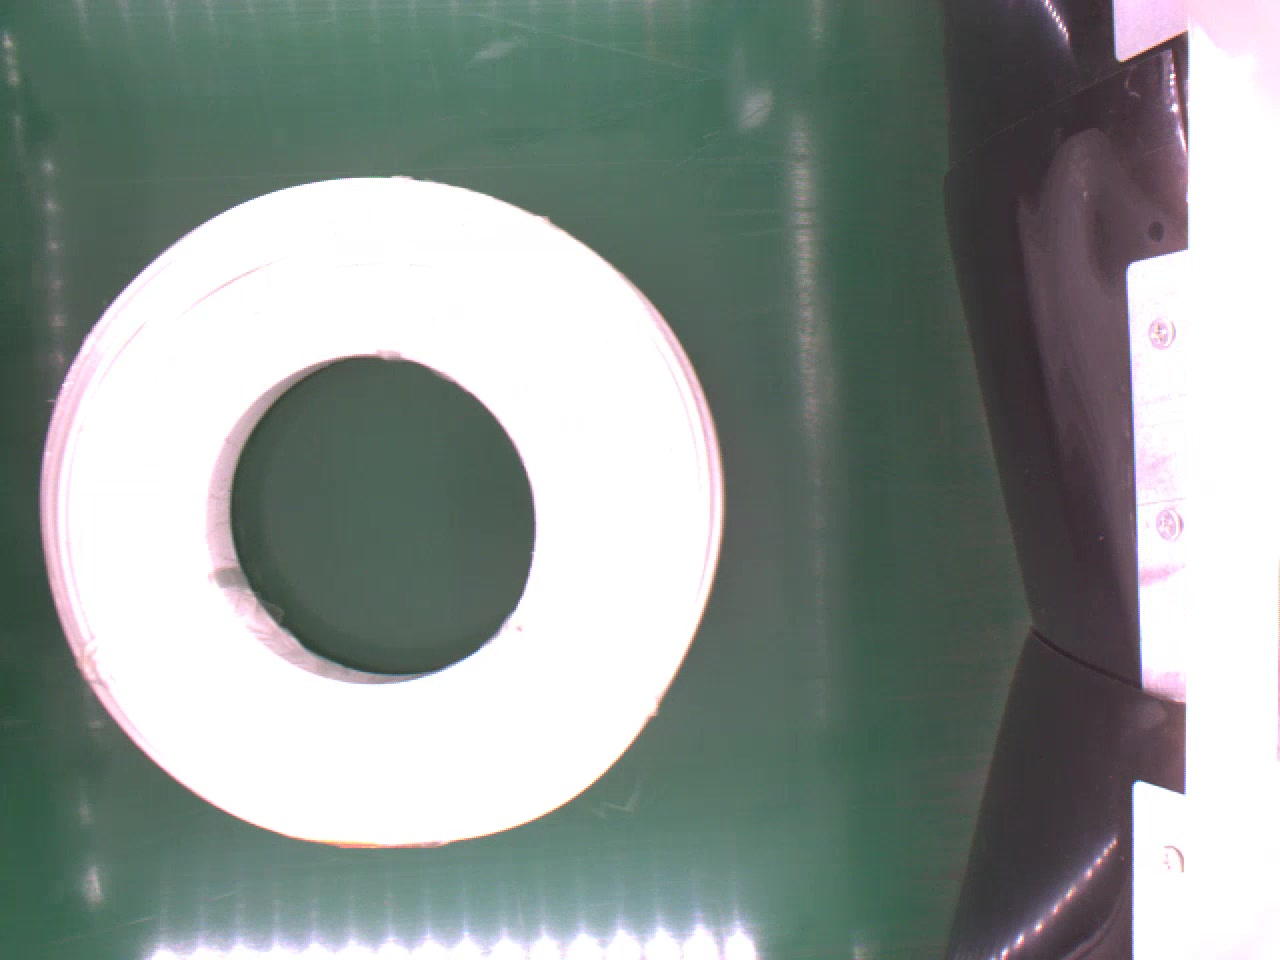white: (34, 168, 728, 857)
